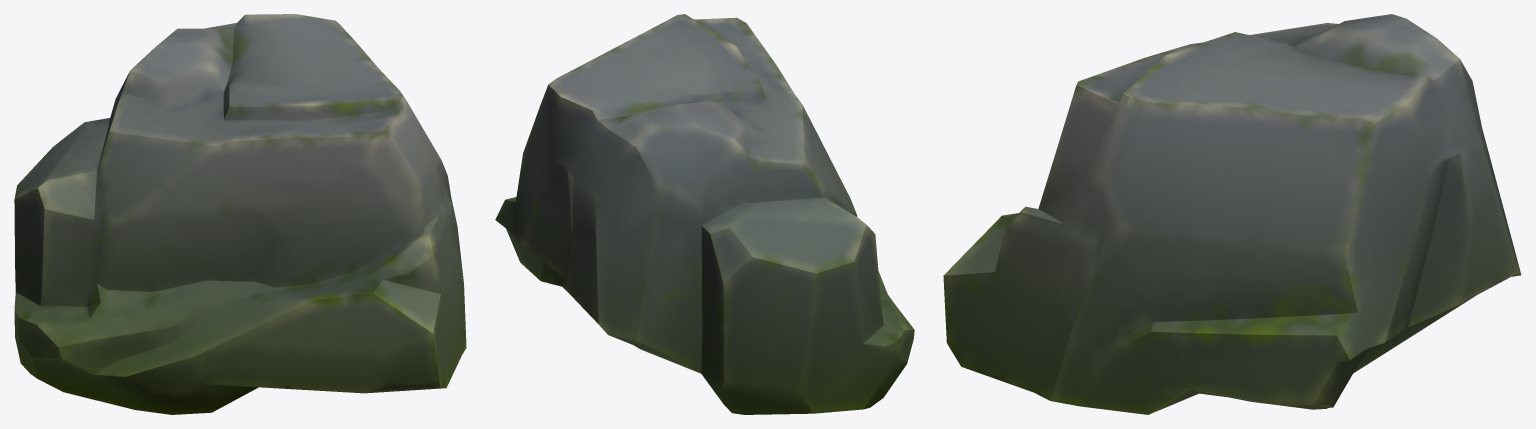
Rendered from Rock_Medium_3.gltf.
3 renders of one model, left to right at view 1: azimuth 30°, elevation 25°; view 2: azimuth 150°, elevation 25°; view 3: azimuth 270°, elevation 25°, orthographic. The views are drawn at different scales.
Visible parts, largest first — view 1: Rock_Medium_3; view 2: Rock_Medium_3; view 3: Rock_Medium_3.
Boxes of the visible parts, x1,y1,x2,y2 form: Rock_Medium_3: (14, 14, 466, 414); Rock_Medium_3: (495, 14, 914, 414); Rock_Medium_3: (943, 14, 1521, 414).
Size of the model in its own units: 3.42 by 2.32 by 3.48.
1 material, 1 textured.
